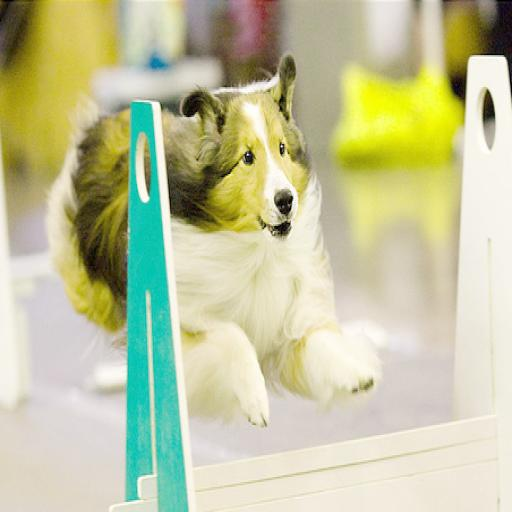dog_face: (180, 49, 312, 251)
